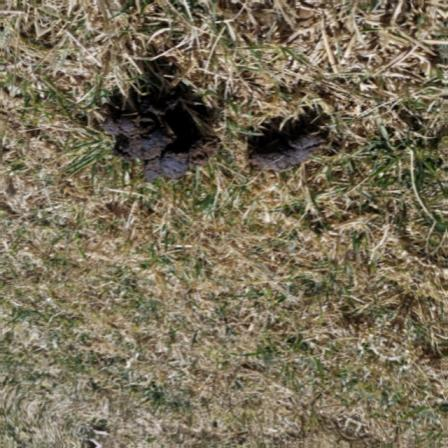dog-poop: (107, 77, 209, 175), (245, 119, 345, 176)
